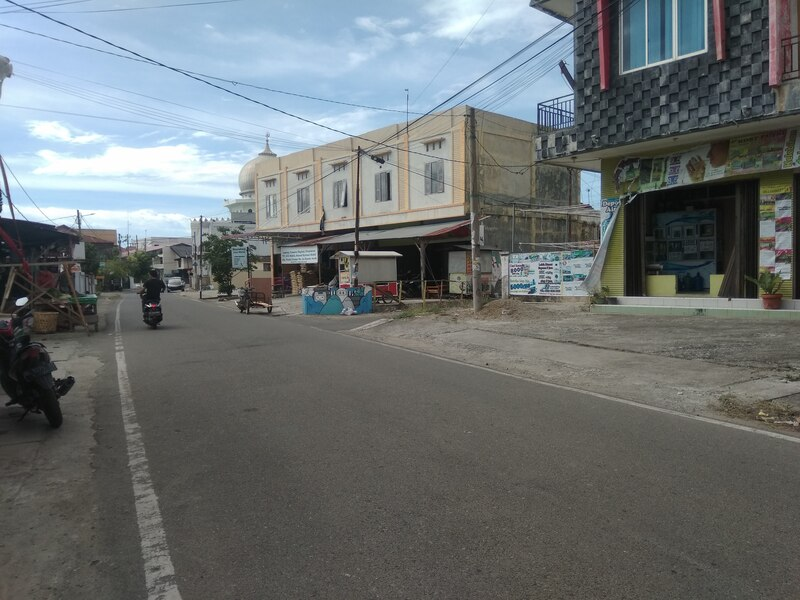becak barang: (233, 282, 279, 320)
